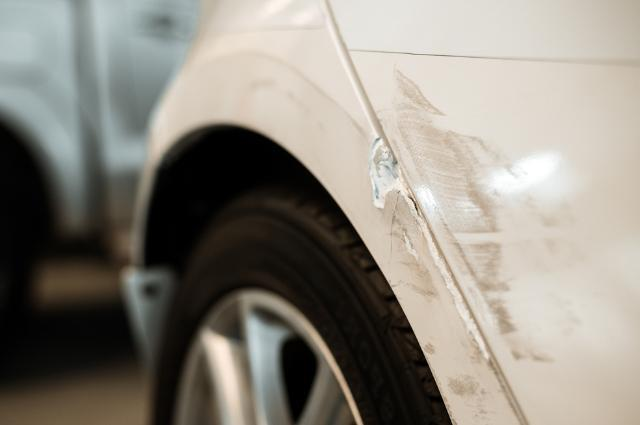Door: (394, 30, 598, 350)
Fender: (335, 125, 419, 257)
